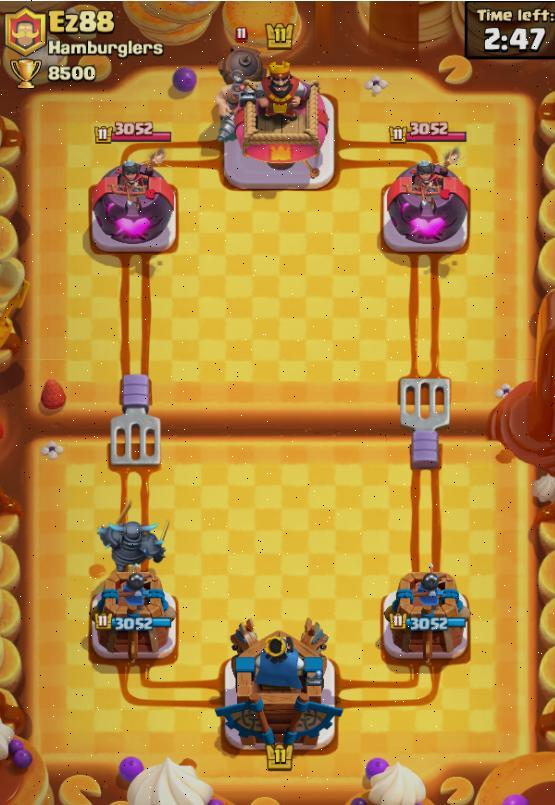EKingTower: (224, 77, 335, 189)
EMightyMiner: (216, 44, 264, 145)
EnemyPrincessTower: (382, 161, 468, 253), (90, 160, 175, 253)
OBigPekka: (97, 521, 167, 571)
OwnKingTower: (216, 619, 341, 750)
OwnPrincessTower: (382, 570, 470, 662), (89, 571, 176, 662)
